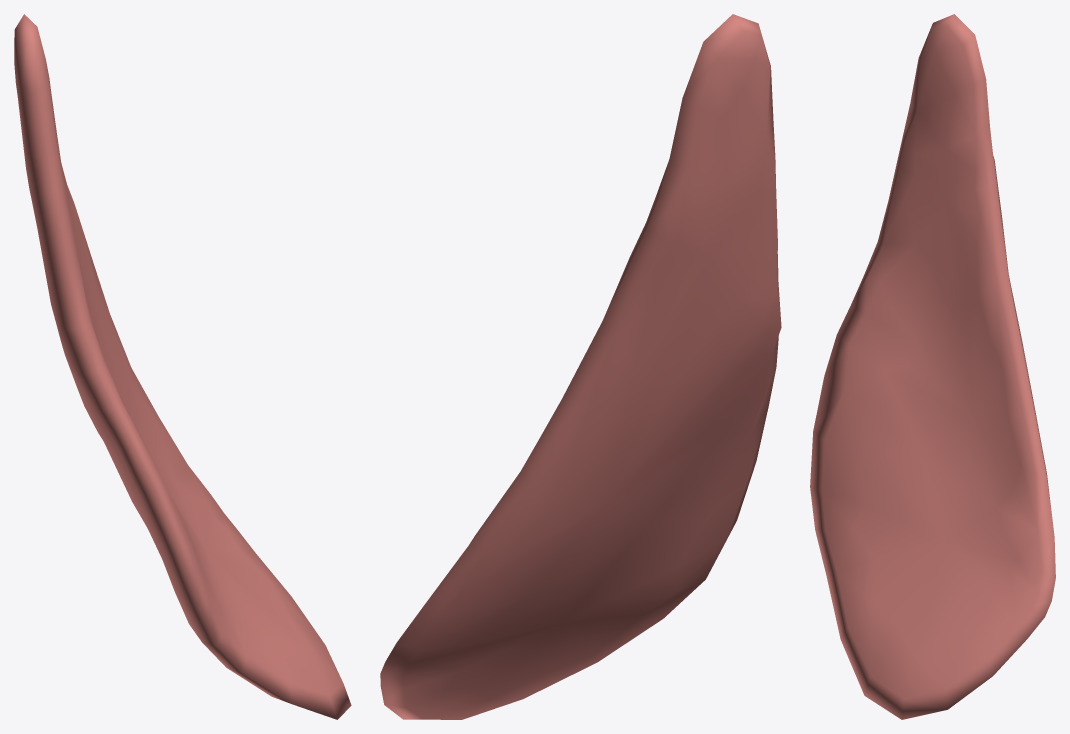
3 views of the same model, side by side, from view 1: azimuth 30°, elevation 25°; view 2: azimuth 150°, elevation 25°; view 3: azimuth 270°, elevation 25° (orthographic). The views are drawn at different scales.
Parts seen in each view (by area): view 1: ZA_5bf8586641353993; view 2: ZA_5bf8586641353993; view 3: ZA_5bf8586641353993.
Part boxes in pixels (x1,y1,x2,y2): ZA_5bf8586641353993: (14,14,351,719); ZA_5bf8586641353993: (380,14,781,719); ZA_5bf8586641353993: (810,14,1055,719).
Size of the model in its own units: 0.00516 by 0.0113 by 0.00425.
